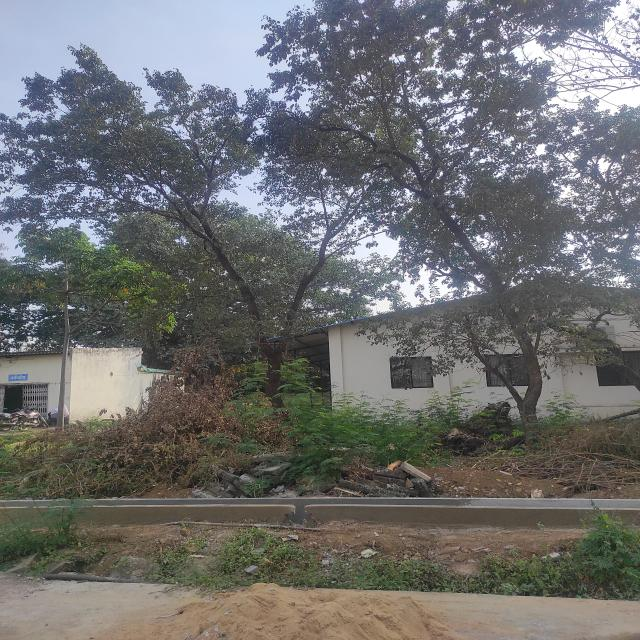Devakanchan tree: (38, 29, 308, 384), (356, 26, 599, 387)
